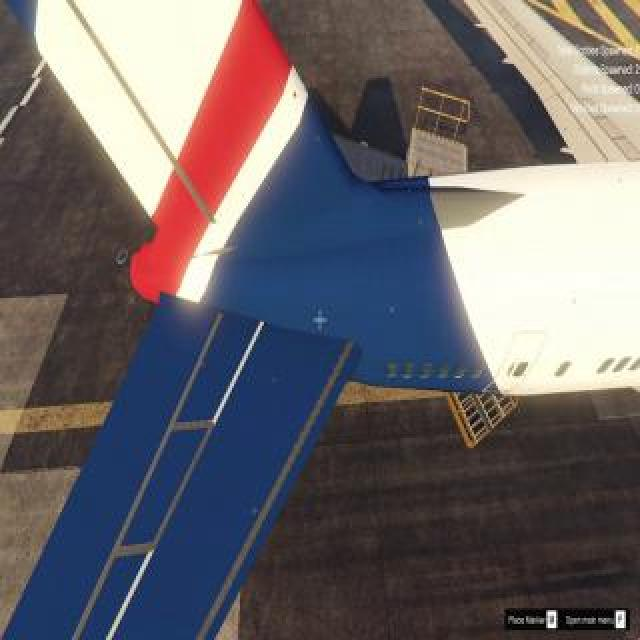crack: (292, 85, 300, 103), (250, 508, 260, 522), (274, 373, 282, 389), (391, 302, 399, 318), (316, 132, 322, 146), (419, 218, 425, 230)
